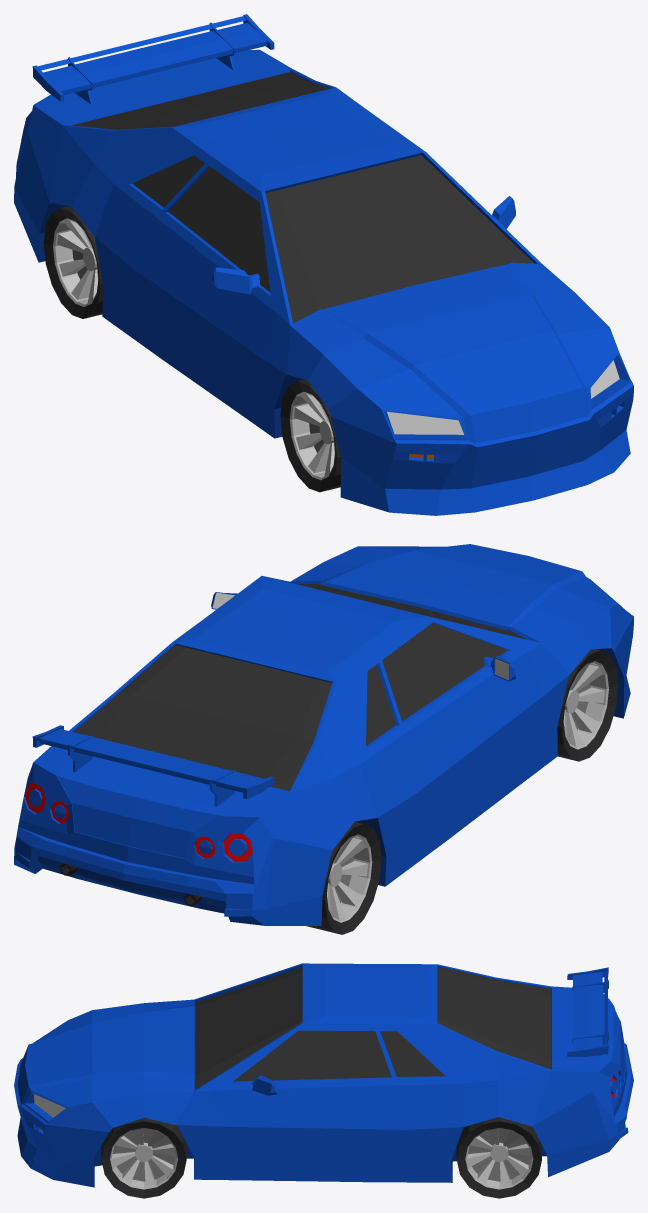
File: jdm1.glb
3 renders of one model, top to bottom at view 1: azimuth 30°, elevation 25°; view 2: azimuth 150°, elevation 25°; view 3: azimuth 270°, elevation 25°, orthographic. The views are drawn at different scales.
Visible parts, largest first — view 1: CarBase, wheel_rear_L, wheel_front_L; view 2: CarBase, wheel_front_L, wheel_rear_L; view 3: CarBase, wheel_rear_R, wheel_front_R.
Boxes of the visible parts, x1,y1,x2,y2 form: CarBase: [14, 14, 633, 515]; wheel_rear_L: [43, 206, 103, 318]; wheel_front_L: [280, 379, 341, 492]; CarBase: [14, 544, 633, 925]; wheel_front_L: [557, 649, 618, 761]; wheel_rear_L: [306, 821, 381, 934]; CarBase: [14, 963, 633, 1187]; wheel_rear_R: [456, 1117, 541, 1198]; wheel_front_R: [101, 1117, 186, 1198].
Bounding box in the file's own units: 1.84 × 1.2 × 4.36.
